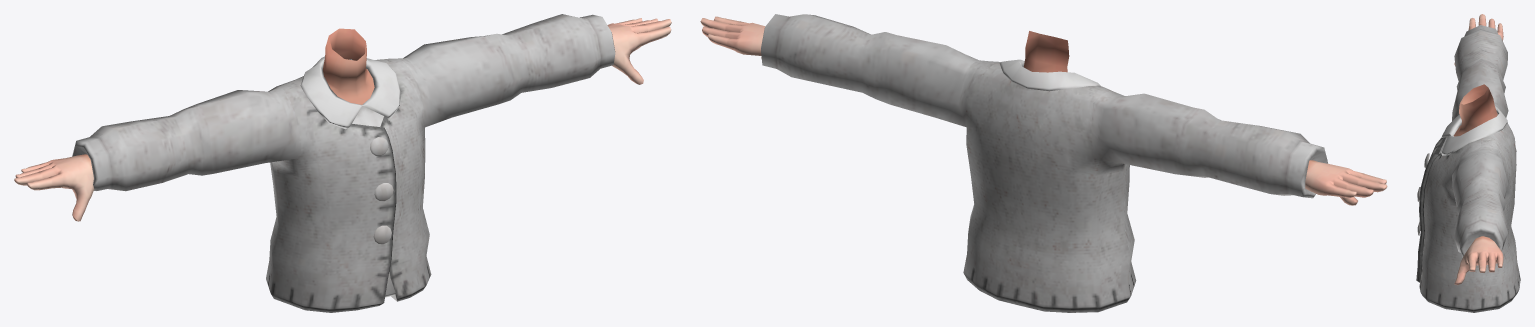
The model's file is tr0750_00_upb03.gltf.
The picture shows the model from 3 angles, left to right: view 1: azimuth 30°, elevation 25°; view 2: azimuth 150°, elevation 25°; view 3: azimuth 270°, elevation 25°; orthographic projection. The views are drawn at different scales.
Parts seen in each view (by area): view 1: upb03_cloth_mesh_shape:upperbody03, upb03_skin_mesh_shape:upperbody03_skin; view 2: upb03_cloth_mesh_shape:upperbody03, upb03_skin_mesh_shape:upperbody03_skin; view 3: upb03_cloth_mesh_shape:upperbody03, upb03_skin_mesh_shape:upperbody03_skin.
Boxes of the visible parts, x1,y1,x2,y2 form: upb03_cloth_mesh_shape:upperbody03: (72, 14, 615, 312); upb03_skin_mesh_shape:upperbody03_skin: (14, 18, 671, 221); upb03_cloth_mesh_shape:upperbody03: (761, 14, 1327, 312); upb03_skin_mesh_shape:upperbody03_skin: (700, 16, 1387, 205); upb03_cloth_mesh_shape:upperbody03: (1416, 25, 1520, 312); upb03_skin_mesh_shape:upperbody03_skin: (1453, 14, 1503, 285).
Size of what is drawn, in the model's own units: 1.63 by 0.5879 by 0.2811.
Materials: 2 (2 with a texture image).
